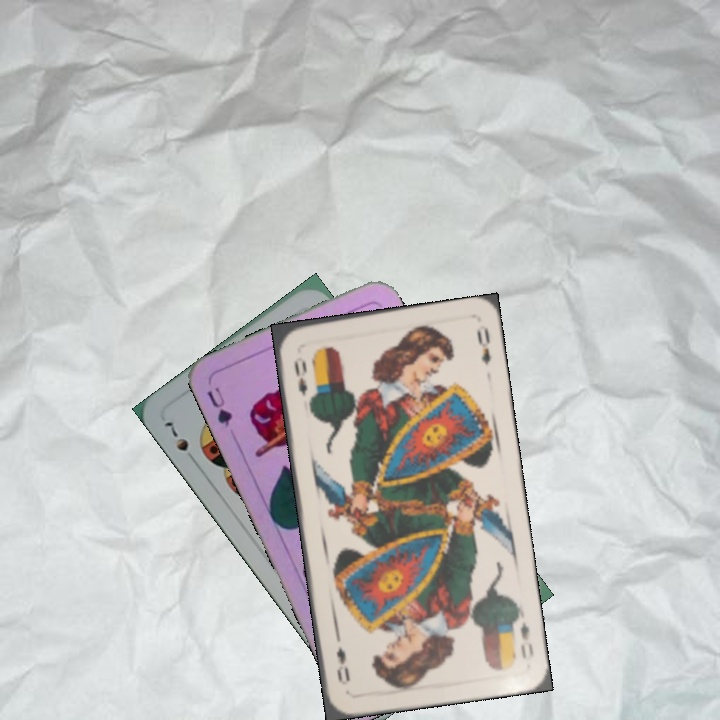EO: (290, 353, 310, 399), (516, 618, 536, 661)
GU: (203, 383, 235, 431)
S7: (160, 417, 191, 455)
